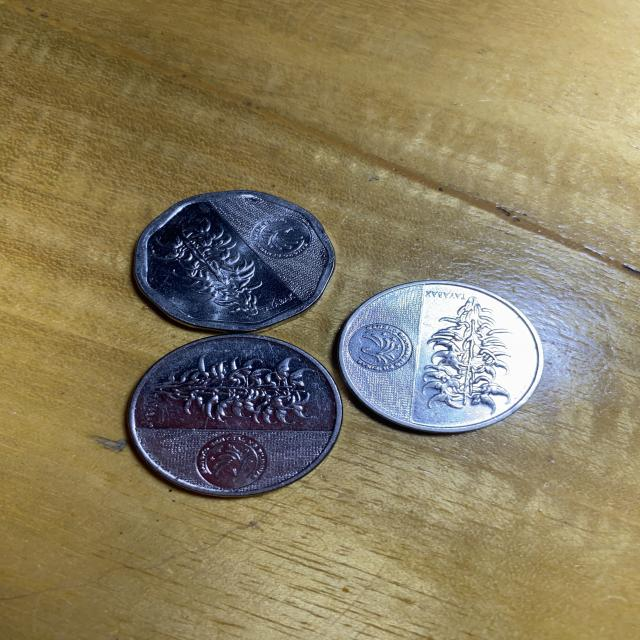5_New_Back: (156, 354, 332, 429), (420, 296, 520, 415), (162, 222, 270, 319)
